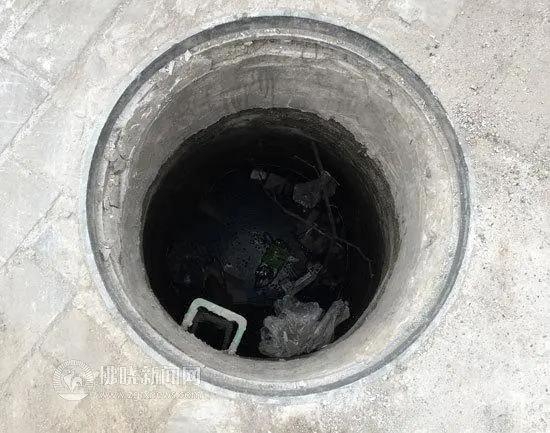wellcover: (85, 0, 462, 409)
